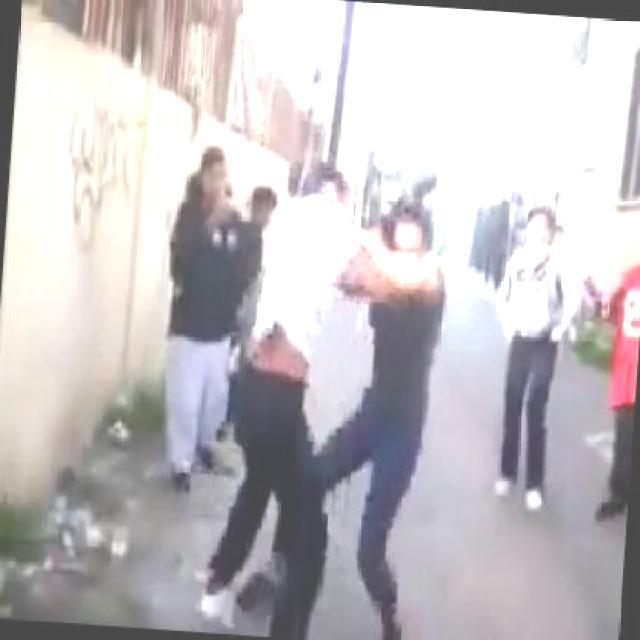fight: (248, 158, 450, 492)
non-fight: (149, 137, 263, 405), (492, 203, 582, 471)
